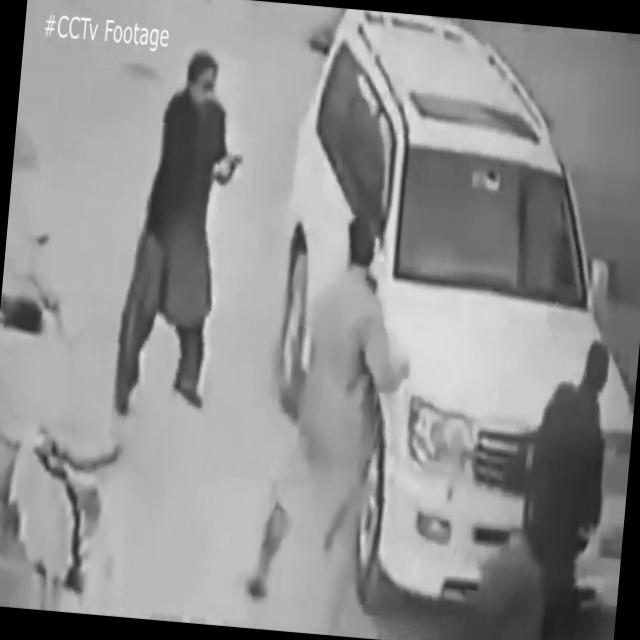gun: (214, 145, 244, 188)
person: (244, 214, 421, 635), (514, 336, 617, 640)
person with a gun: (109, 46, 254, 428)
